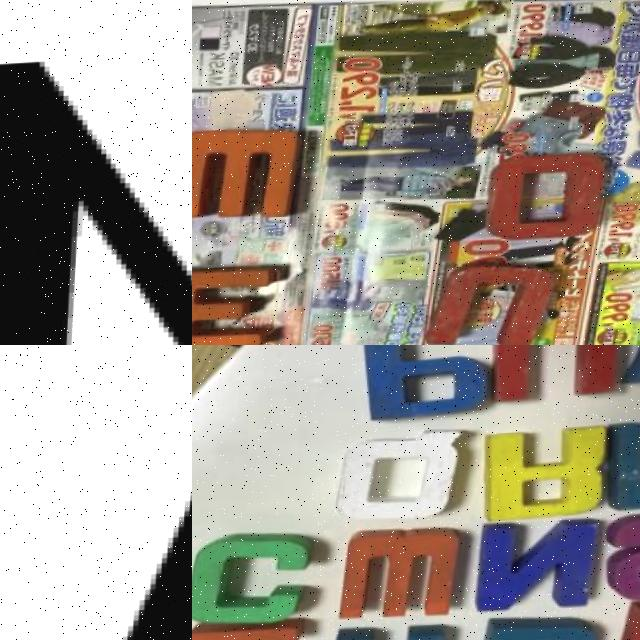C: (192, 531, 316, 628)
D: (476, 618, 611, 640)
E: (192, 262, 294, 345), (192, 622, 310, 640)
M: (603, 418, 640, 512)
N: (478, 522, 610, 615)
O: (487, 153, 611, 243)
P: (363, 345, 494, 423)
Q: (338, 427, 475, 525)
R: (480, 429, 611, 526)
S: (615, 513, 640, 604)
U: (428, 261, 563, 345), (496, 345, 624, 398)
V: (0, 42, 192, 345)
W: (344, 525, 473, 621), (192, 125, 313, 219)
Y: (43, 345, 192, 640)
